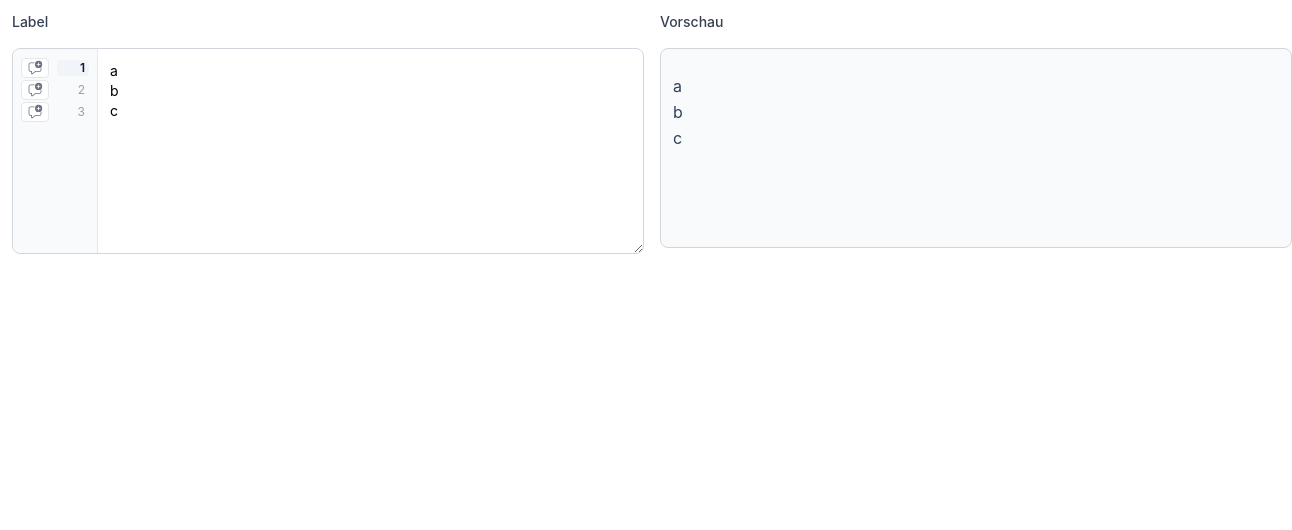
Scenario: MarkdownEditorWithPreviewComments.vue (neu) › öffnet Panel für Zeile und zeigt Subtitle 'Zeile X'
Click the button titled "Kommentare zu Zeile 3". click: point(73, 112)
box: [57, 104, 89, 120]
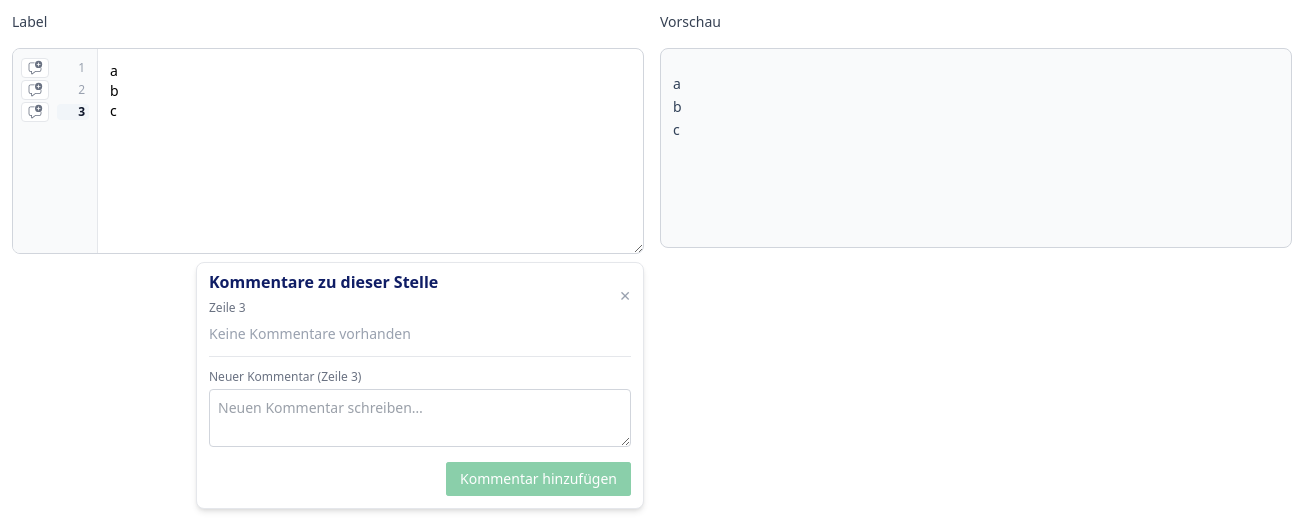
Expected: the text "Kommentare zu dieser Stelle" is shown, [209, 275, 438, 290]
Expected: the text "Zeile 3" is shown, [209, 299, 246, 316]
